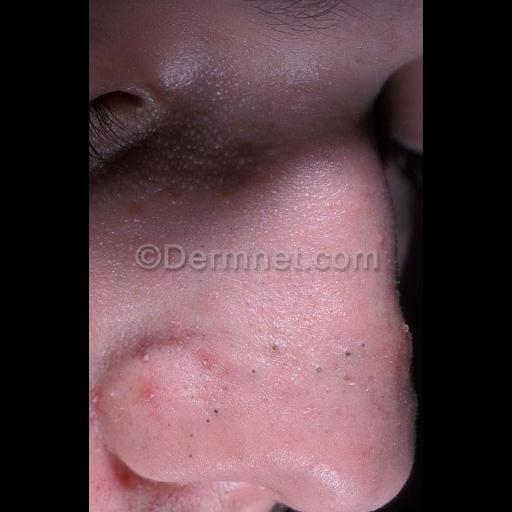Skin_Lesion: (328, 331, 374, 377), (134, 384, 170, 414), (131, 332, 155, 370), (191, 341, 217, 373), (260, 336, 288, 364), (205, 396, 227, 420)
